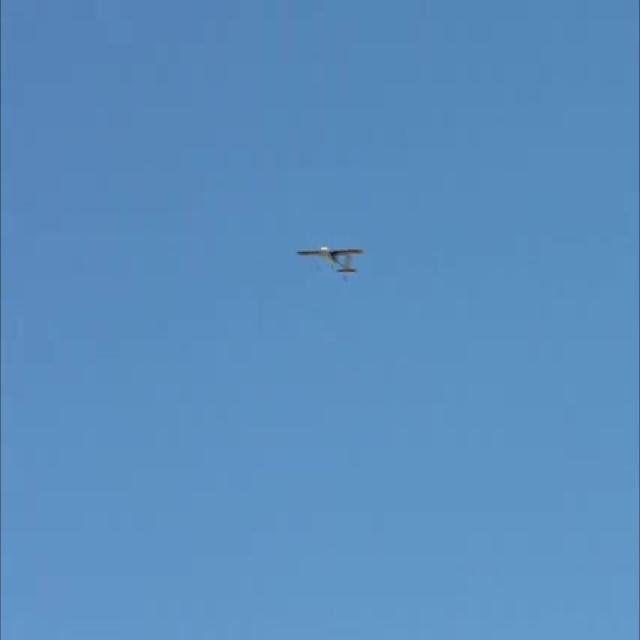iha: (321, 238, 327, 274)
